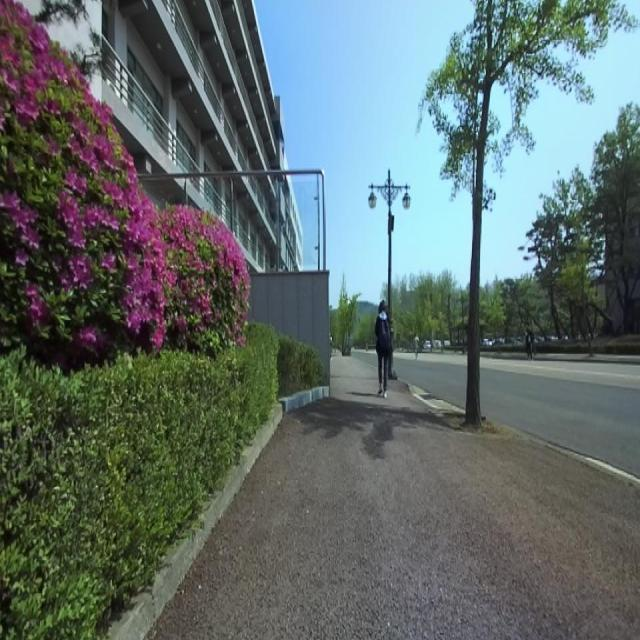sidewalk: (151, 356, 640, 639)
